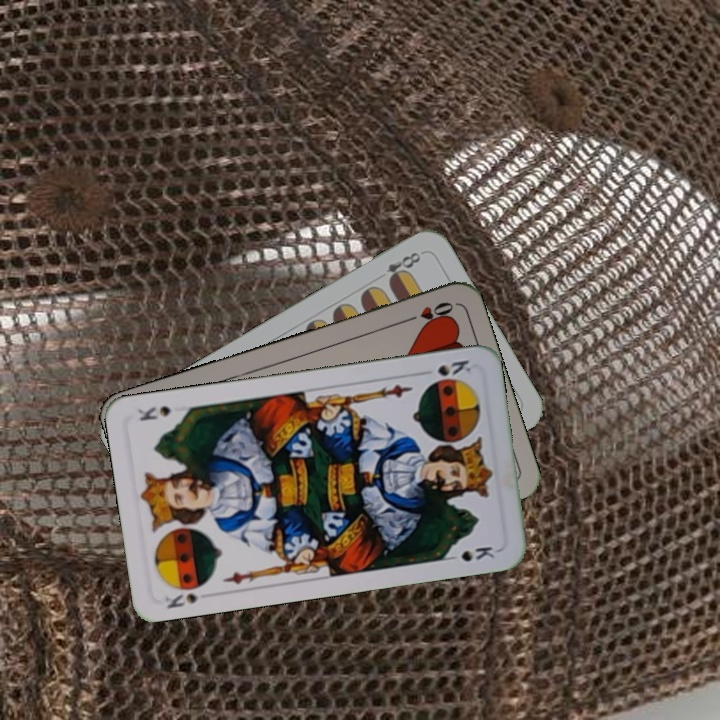E8: (381, 247, 423, 287)
HO: (399, 297, 456, 327)
SK: (416, 356, 474, 379), (161, 589, 201, 612)
